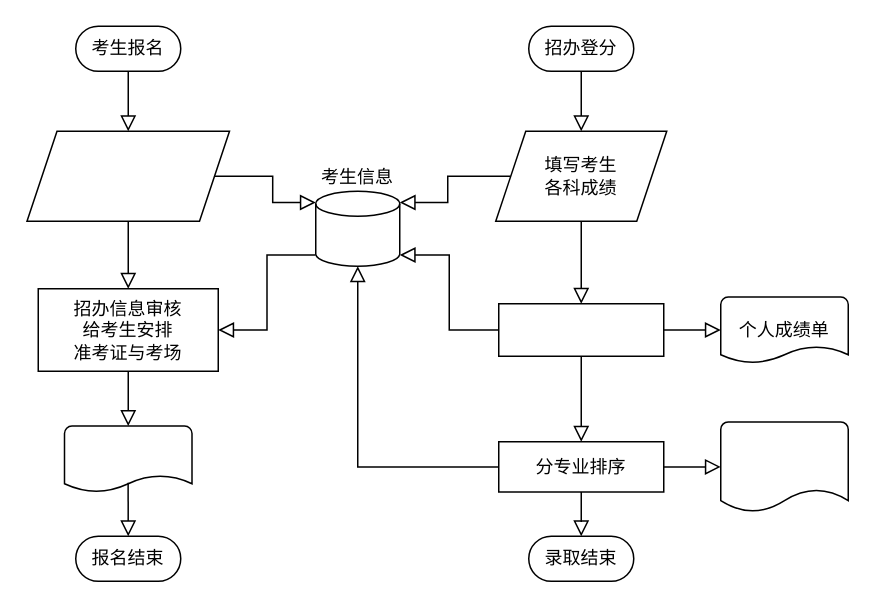
This 875x608 diagram has some shape labels left out. Here are the shapes that lost their labels. From the top down, the centre of each, then its label:
the point at 128,175: 填写姓名、地址、 年龄、报考专业
the point at 580,329: 计算每人总分
the point at 127,458: 个人准考证
the point at 783,466: 各专业 录取名单
